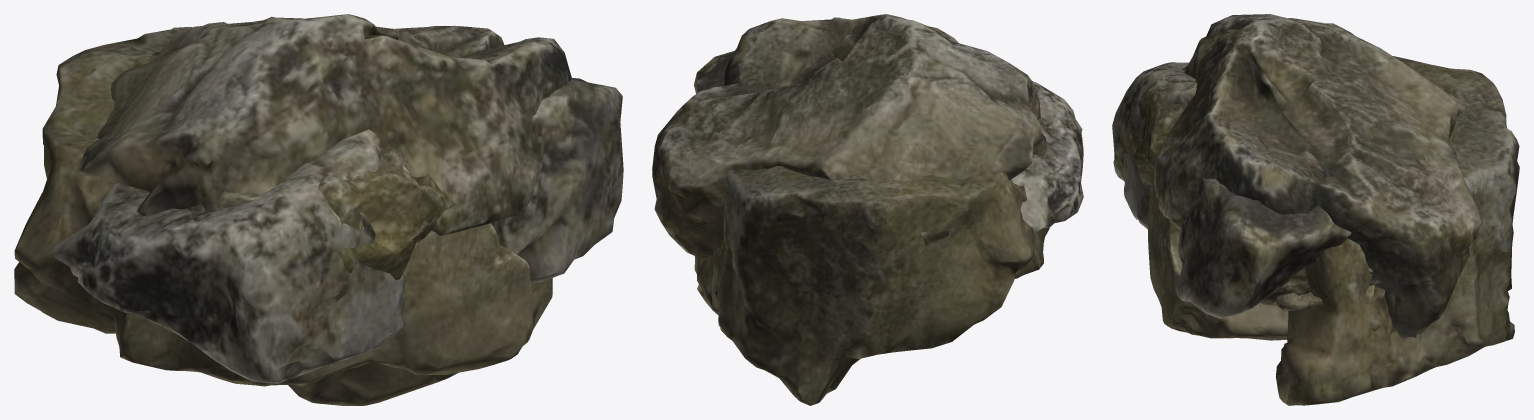
File: rock_moss_set_02.glb
The picture shows the model from 3 angles, left to right: view 1: azimuth 30°, elevation 25°; view 2: azimuth 150°, elevation 25°; view 3: azimuth 270°, elevation 25°; orthographic projection. The views are drawn at different scales.
Parts seen in each view (by area): view 1: rock_moss_set_02_rock11, rock_moss_set_02_rock10, rock_moss_set_02_rock07, rock_moss_set_02_rock13, rock_moss_set_02_rock12; view 2: rock_moss_set_02_rock13, rock_moss_set_02_rock11, rock_moss_set_02_rock10, rock_moss_set_02_rock07; view 3: rock_moss_set_02_rock11, rock_moss_set_02_rock13, rock_moss_set_02_rock10, rock_moss_set_02_rock07, rock_moss_set_02_rock12, rock_moss_set_02_rock09.
Part boxes in pixels (x1=…): rock_moss_set_02_rock11: x1=76, y1=14, x2=571, y2=242; rock_moss_set_02_rock10: x1=52, y1=78, x2=623, y2=383; rock_moss_set_02_rock07: x1=114, y1=223, x2=533, y2=386; rock_moss_set_02_rock13: x1=14, y1=27, x2=552, y2=405; rock_moss_set_02_rock12: x1=186, y1=147, x2=456, y2=321; rock_moss_set_02_rock13: x1=694, y1=165, x2=1034, y2=405; rock_moss_set_02_rock11: x1=652, y1=14, x2=1047, y2=260; rock_moss_set_02_rock10: x1=694, y1=51, x2=1083, y2=233; rock_moss_set_02_rock07: x1=1014, y1=227, x2=1049, y2=278; rock_moss_set_02_rock11: x1=1154, y1=14, x2=1480, y2=339; rock_moss_set_02_rock13: x1=1276, y1=56, x2=1519, y2=405; rock_moss_set_02_rock10: x1=1112, y1=62, x2=1351, y2=318; rock_moss_set_02_rock07: x1=1148, y1=174, x2=1380, y2=340; rock_moss_set_02_rock12: x1=1123, y1=66, x2=1380, y2=306; rock_moss_set_02_rock09: x1=1274, y1=292, x2=1323, y2=311.
Size of the model in its own units: 2.22 by 1.71 by 1.9.
1 material, 1 textured.
